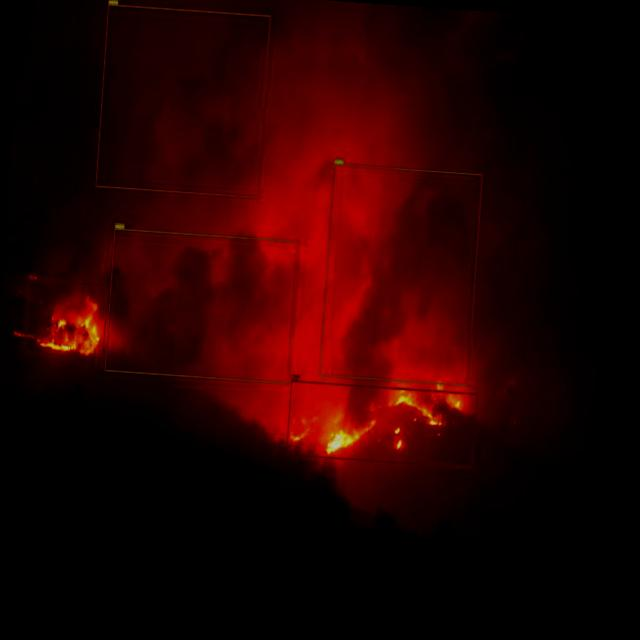fire: (285, 380, 478, 468), (22, 278, 108, 358)
smoke: (318, 162, 482, 386), (95, 4, 270, 198), (103, 226, 298, 384)
